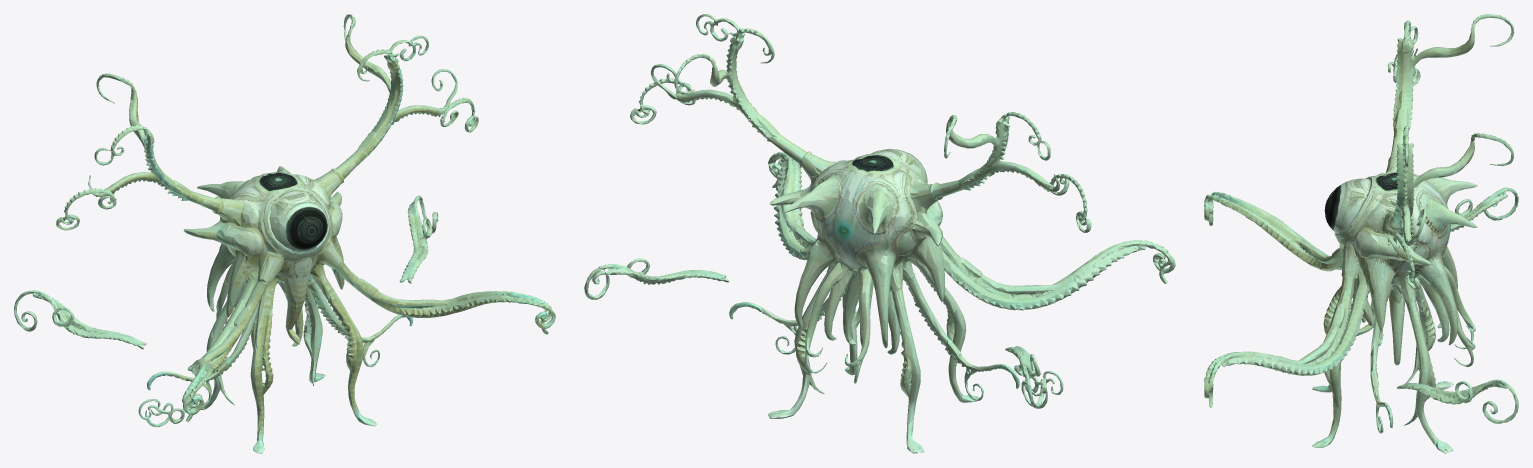
File: bloom_basket_star.glb
3 renders of one model, left to right at view 1: azimuth 30°, elevation 25°; view 2: azimuth 150°, elevation 25°; view 3: azimuth 270°, elevation 25°, orthographic. The views are drawn at different scales.
Size of the model in its own units: 1.9 by 1.44 by 1.18.
Materials: 1 (1 with a texture image).
